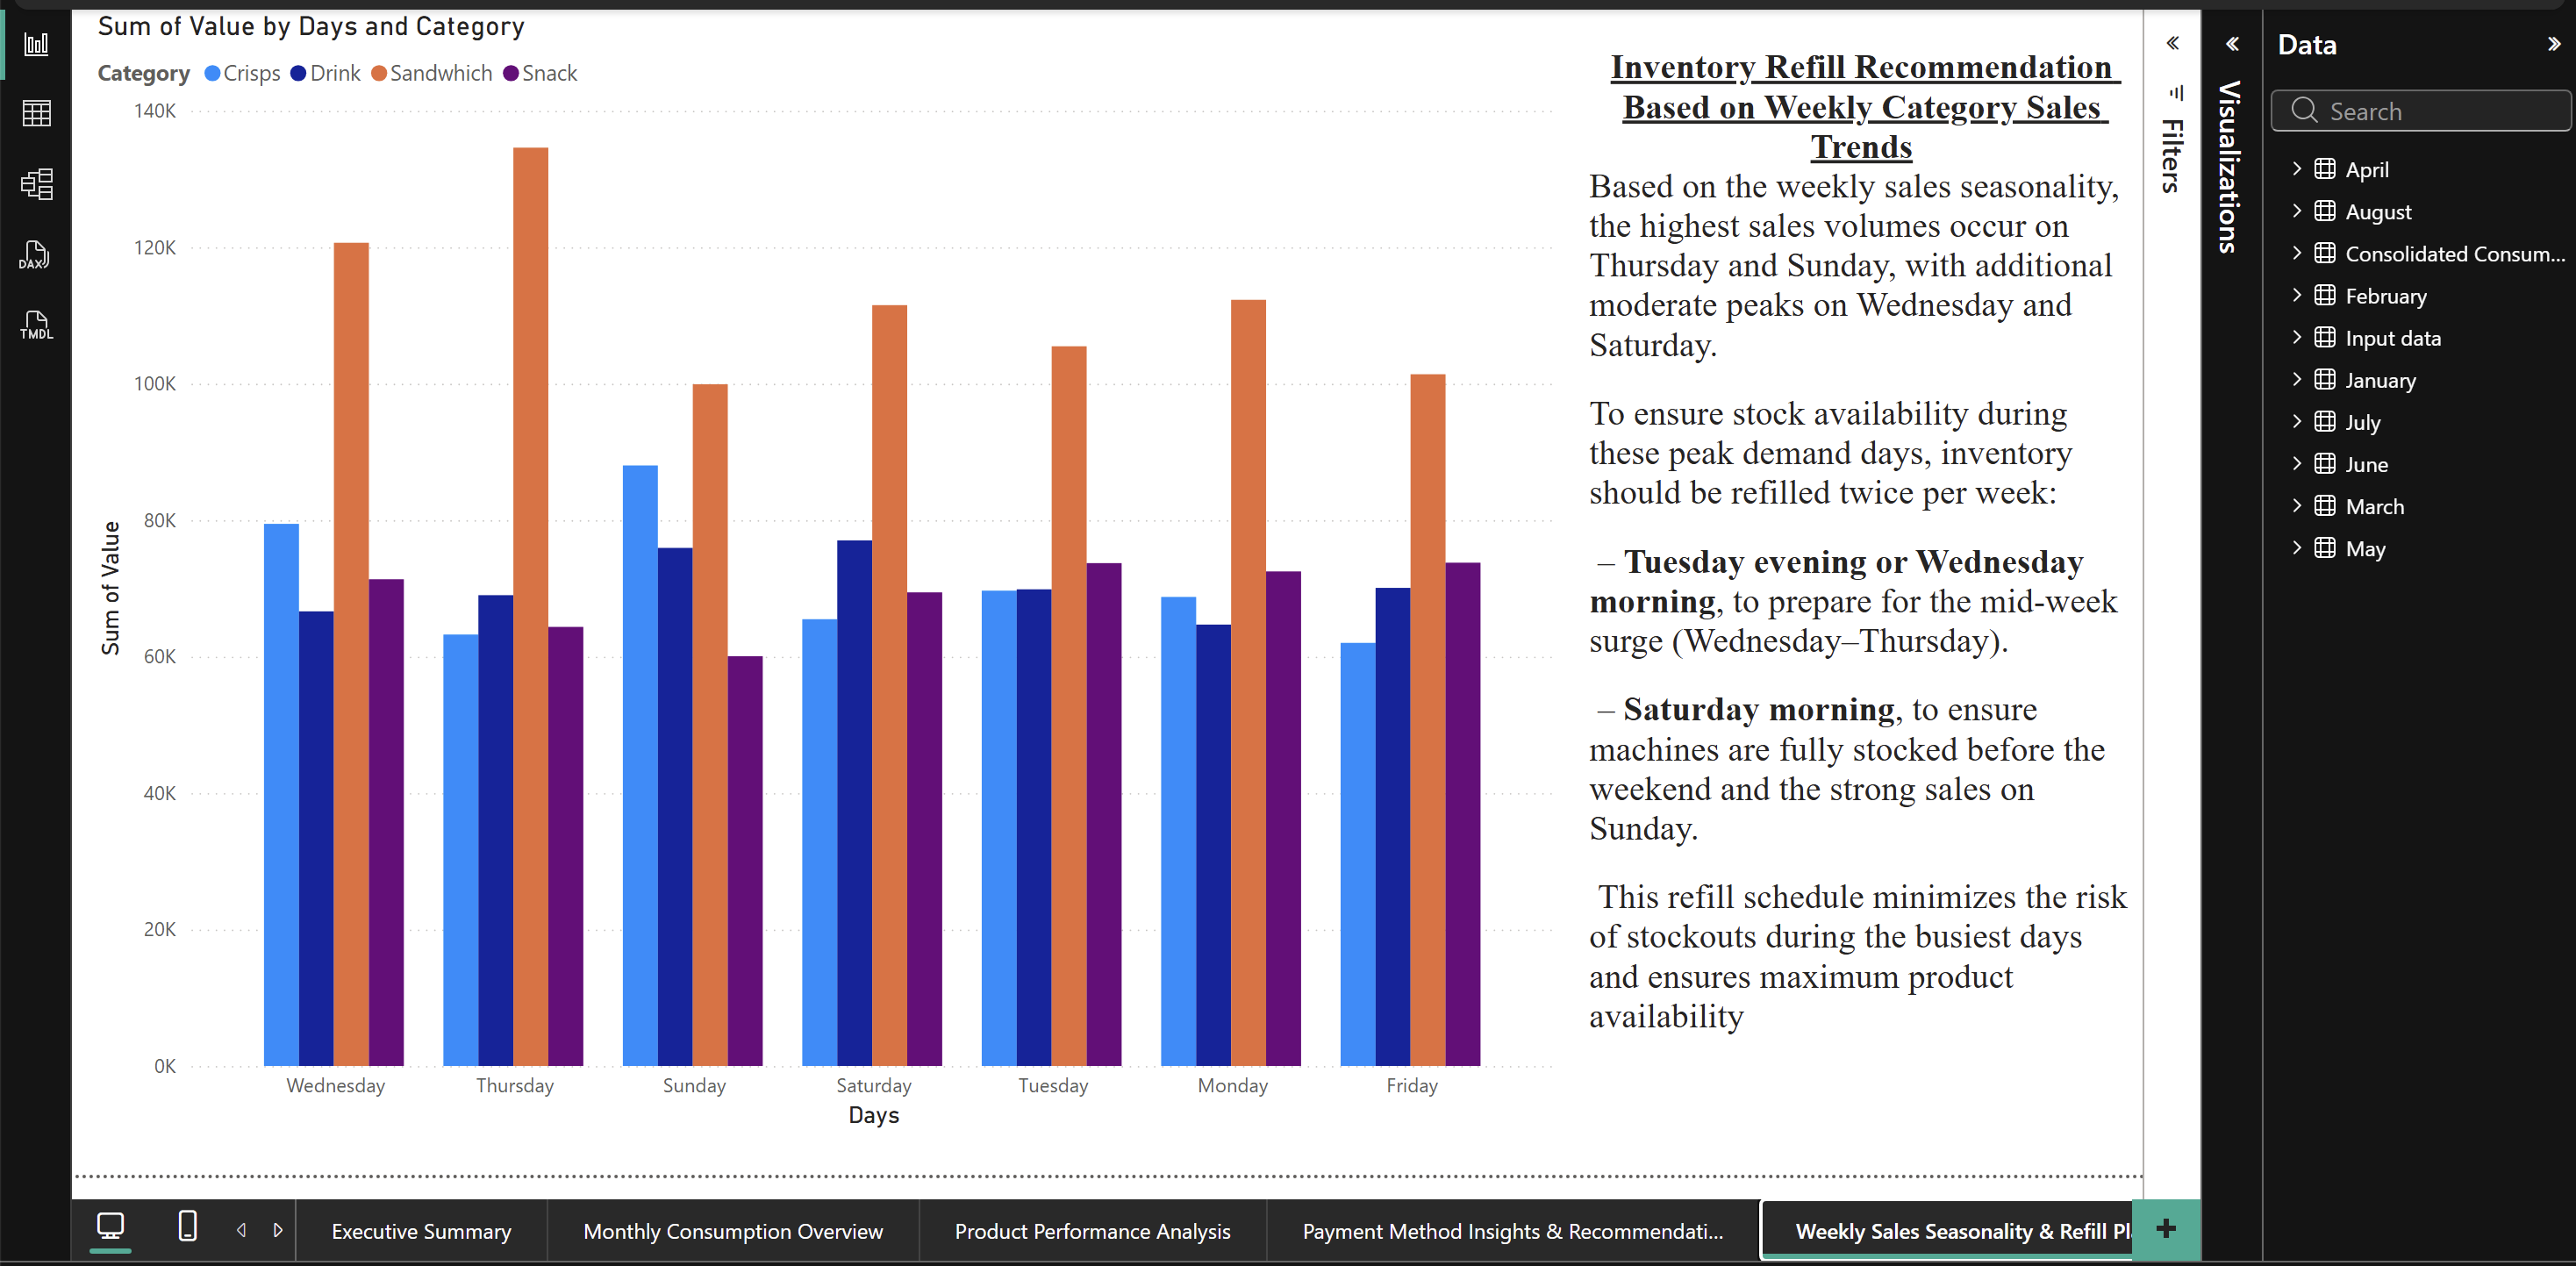

The page's visual inventory and layout, read from the dashboard file:
{"tool":"powerbi","page":{"name":"Weekly Sales Seasonality & Refill Plan","canvas":[1280,720],"ordinal":4},"visuals":[{"type":"clusteredColumnChart","fields":{"Y":["Sum(Consolidated Consumption.Value)"],"Category":["Consolidated Consumption.Days"],"Series":["Consolidated Consumption.Category"]},"box":[10.6,0,911.5,696.4],"z":0},{"type":"textbox","box":[933,0,347,696],"z":1000}]}

Visuals, with their boxes on the page's 1280x720 design canvas (x1, y1, x2, y2). These are canvas units, not pixel positions in the 2576x1266 screenshot, which may show the page scaled, cropped or inside an application window:
clusteredColumnChart - Sum(Consolidated Consumption.Value) x Consolidated Consumption.Days: rect(11, 0, 922, 696)
textbox: rect(933, 0, 1280, 696)
